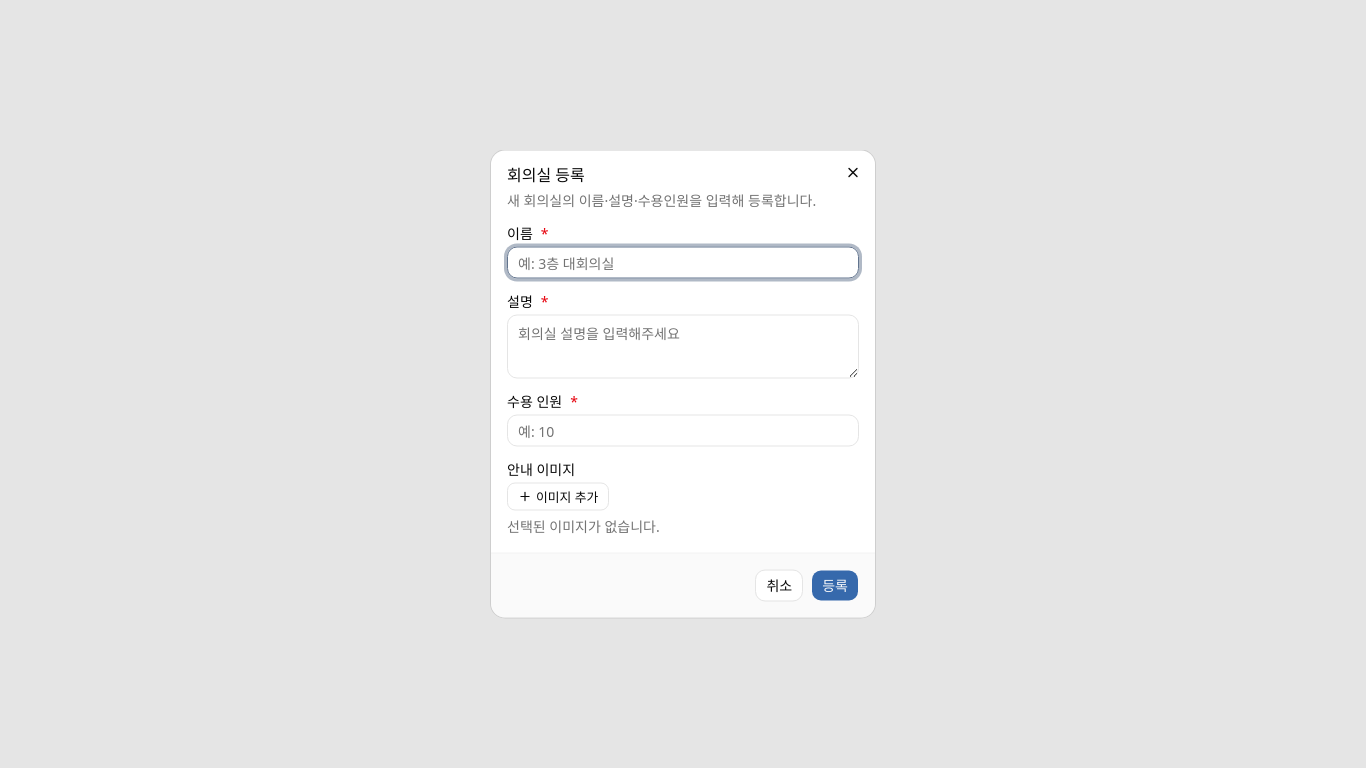
Test: MeetingRoomCreateDialog › 빈 값 제출 시 zod 클라 사전검증 메시지를 노출하고 요청을 보내지 않는다
Click the button "등록".
click(835, 586)  # box [811,570,859,602]
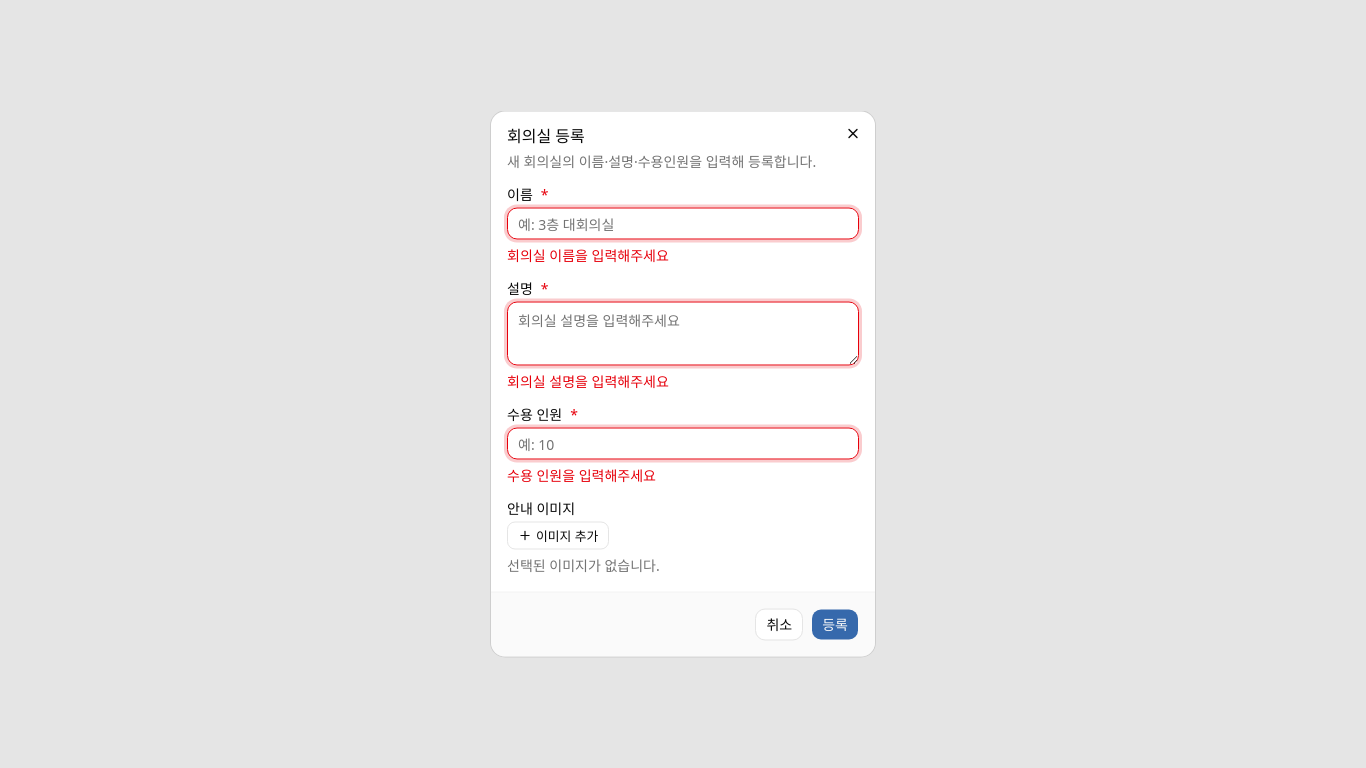
Now the text "회의실 이름을 입력해주세요" is shown, box [507,246,669,264]
Now the text "회의실 설명을 입력해주세요" is shown, box [507,372,669,390]
Now the text "수용 인원을 입력해주세요" is shown, box [507,466,656,484]
